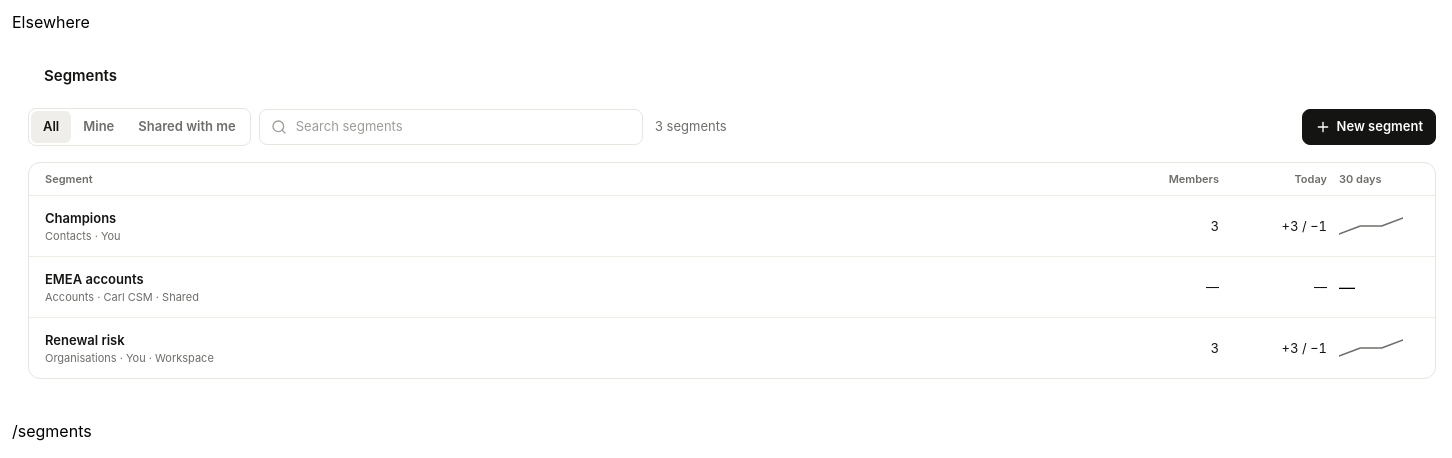
/segments (spec §3) › searches by name once typing stops
In the search field named "Search segments by name": (451, 127) [259,109,643,145], type "champ"
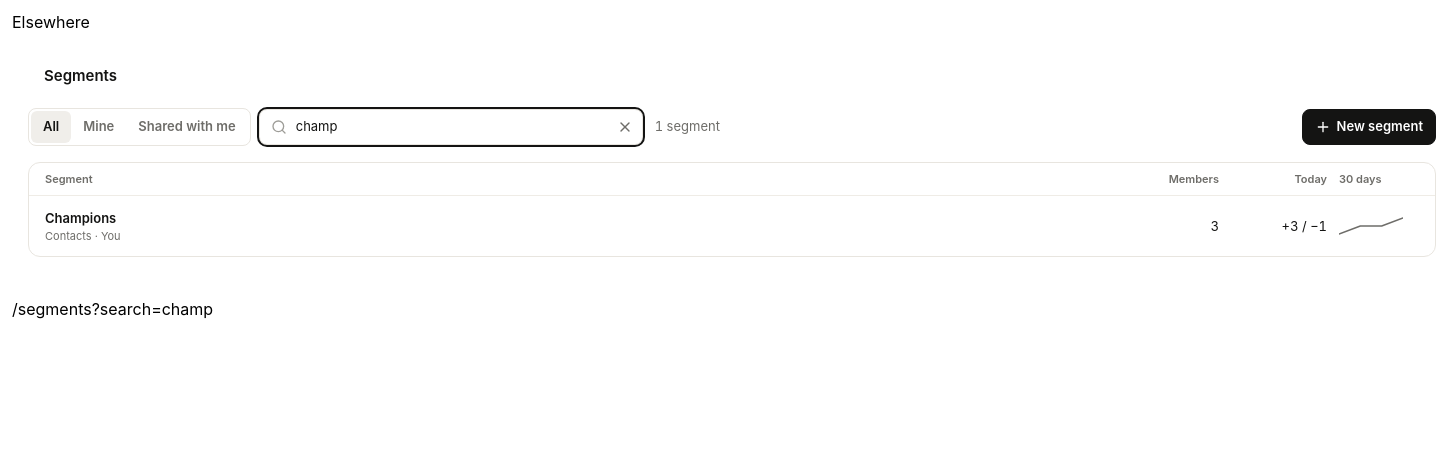
Expected: the text with test id "where" reads "/segments?search=champ", [12,299,213,319]
